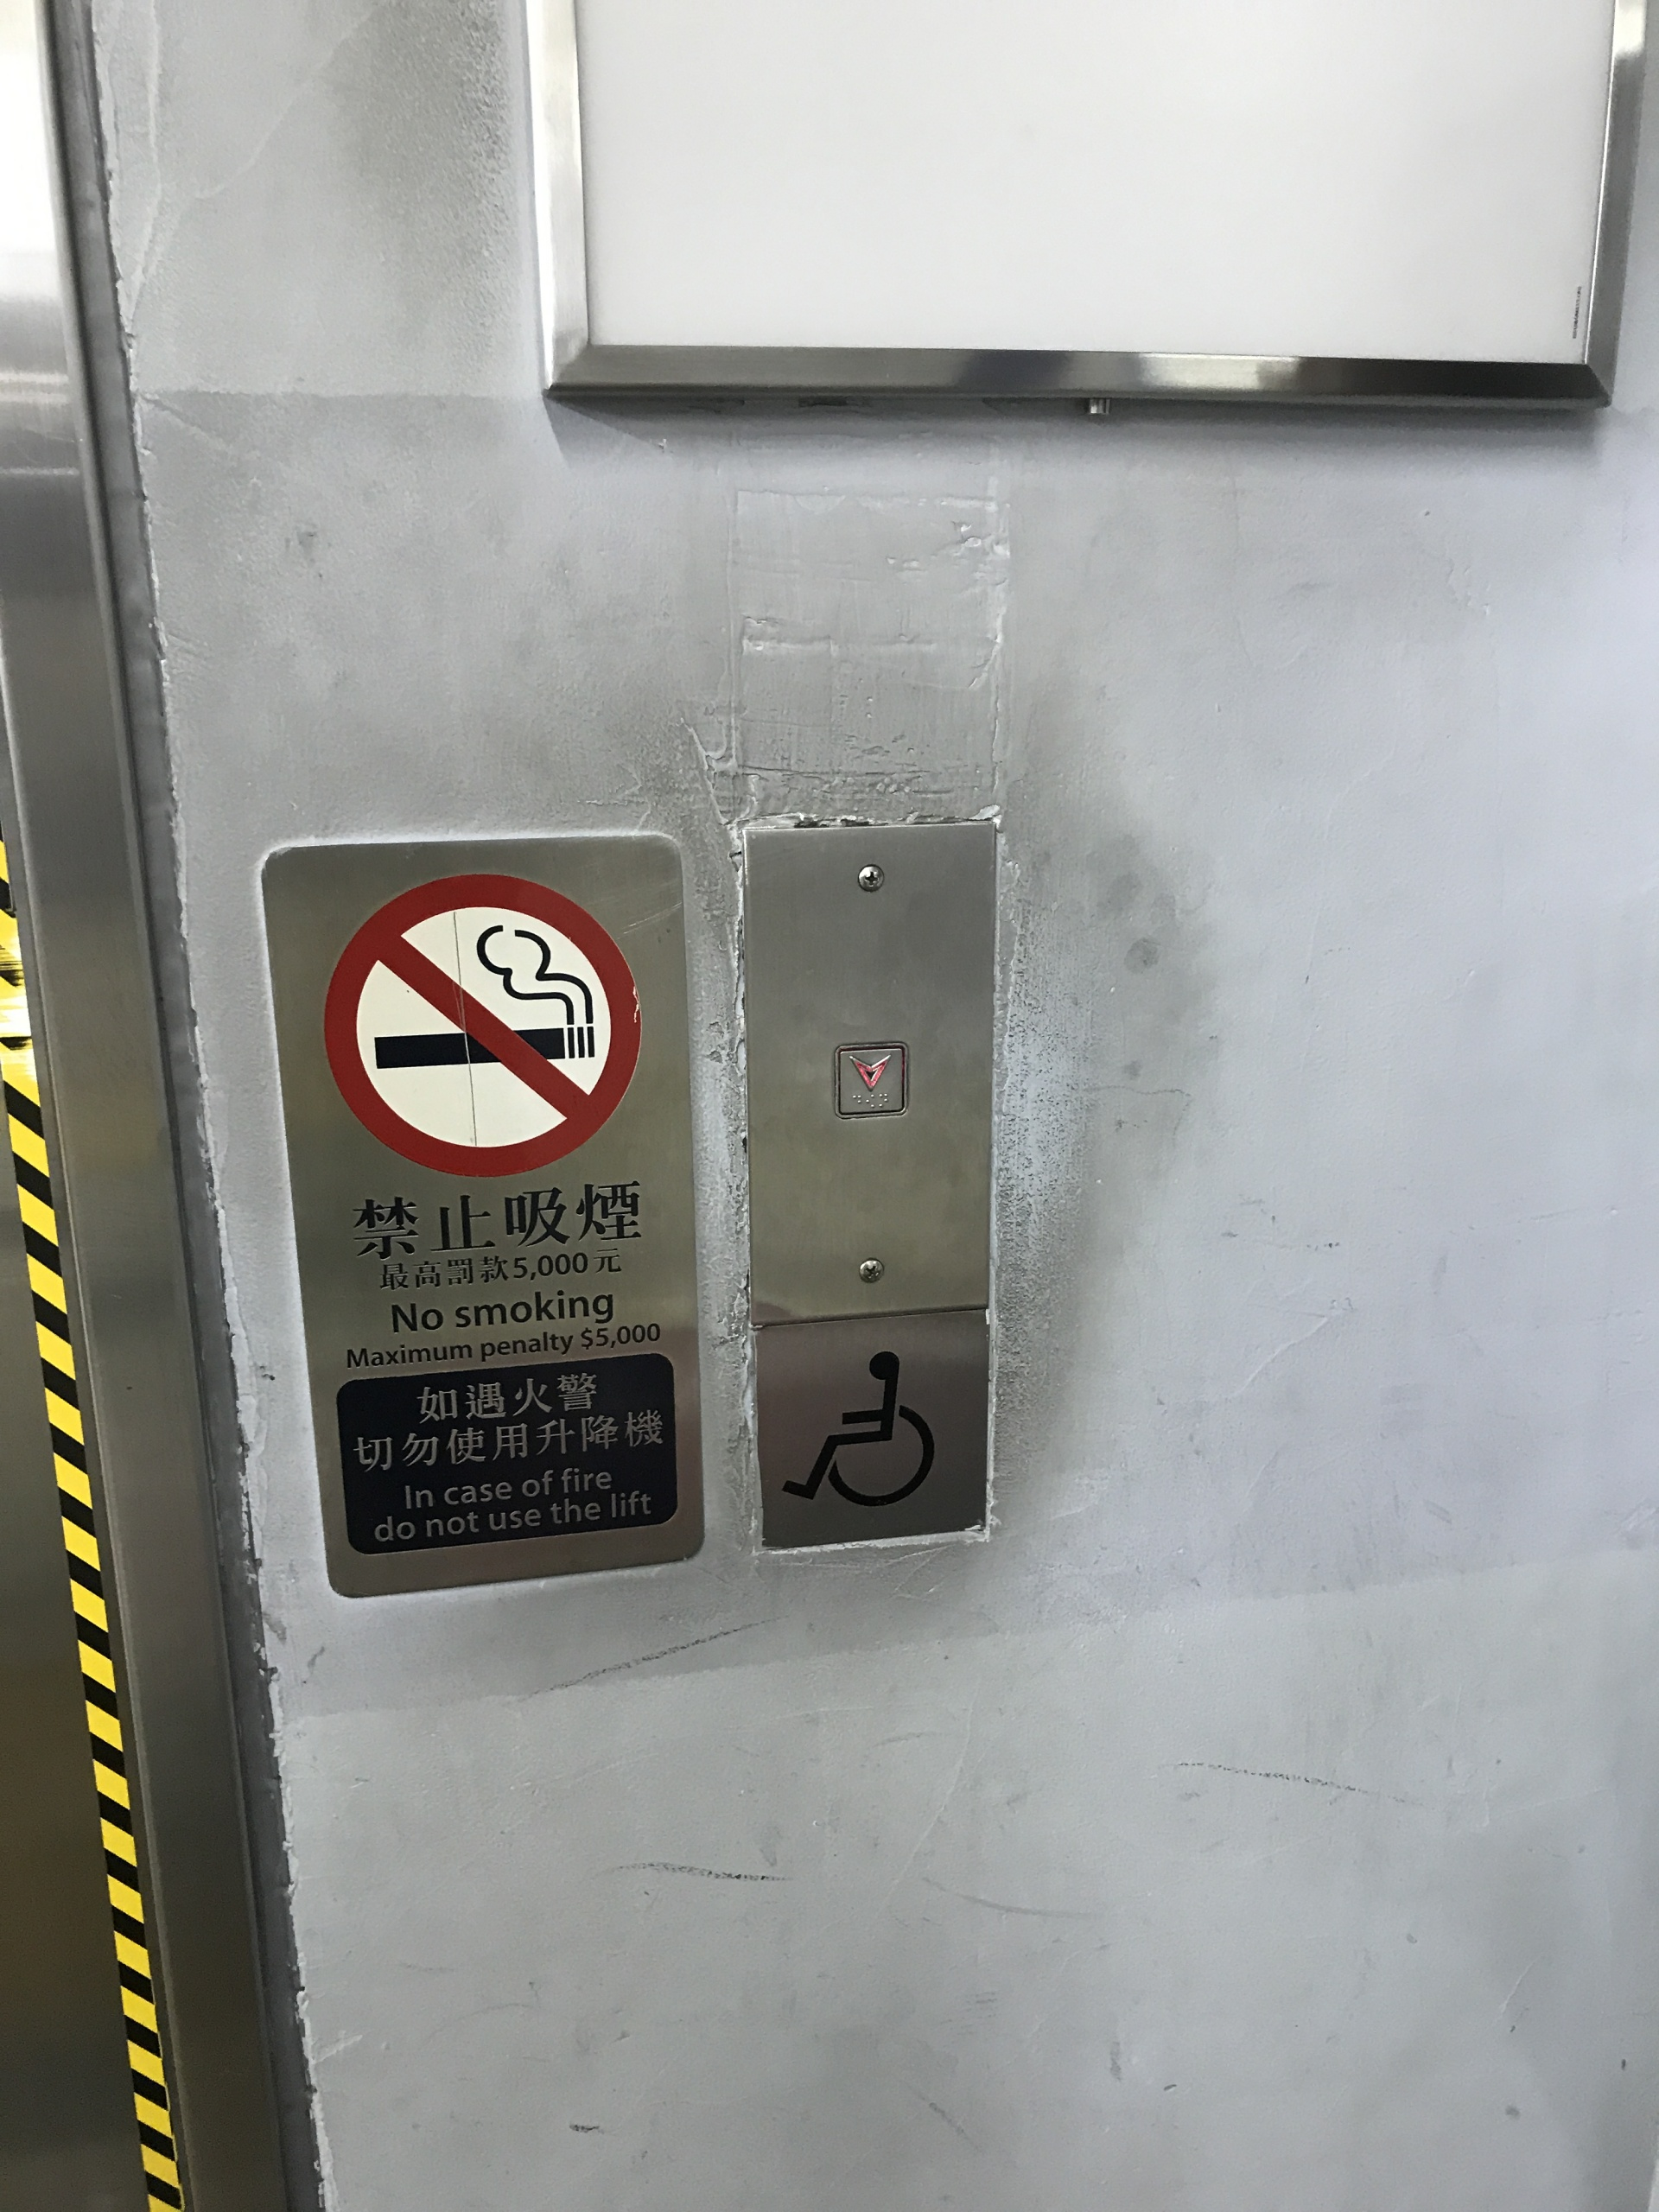down: (831, 1036, 913, 1122)
